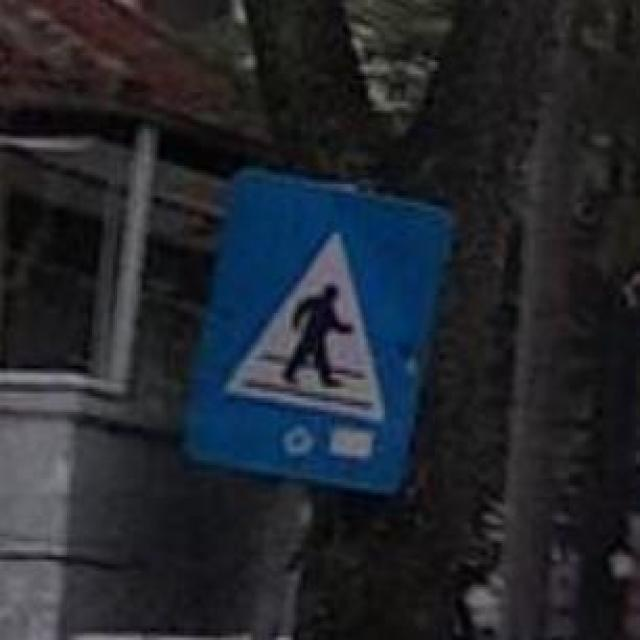traffic sign: (205, 170, 454, 494)
